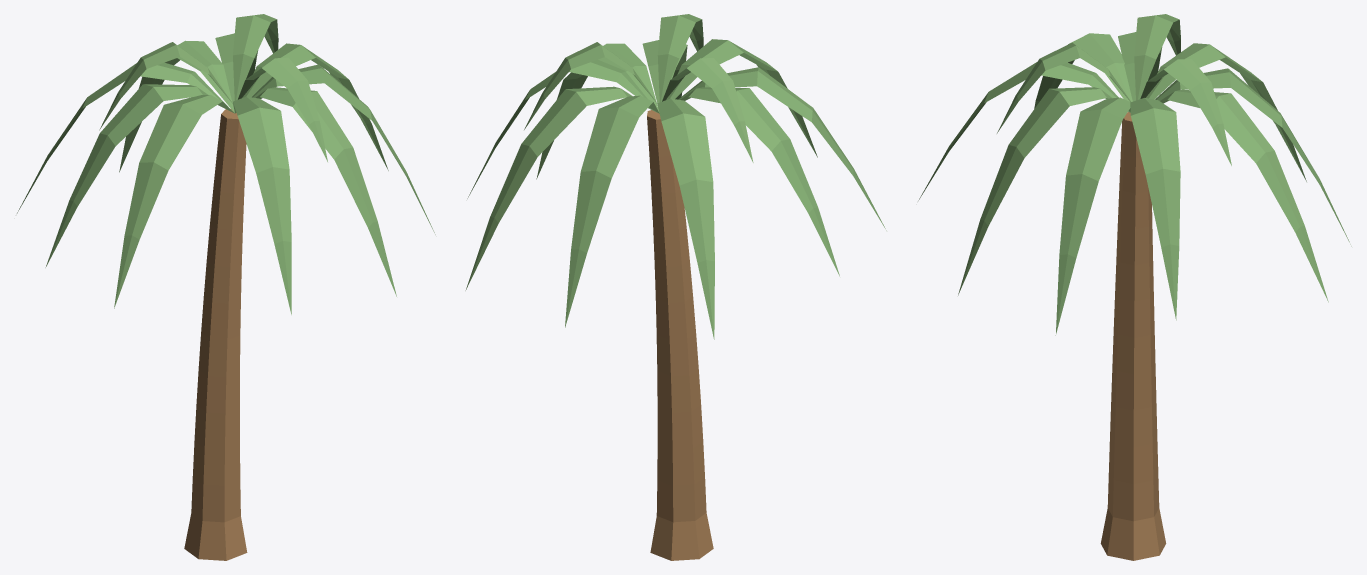
Rendered from tree-palm-tall.glb.
3 views of the same model, side by side, from view 1: azimuth 30°, elevation 25°; view 2: azimuth 150°, elevation 25°; view 3: azimuth 270°, elevation 25° (orthographic). The views are drawn at different scales.
Visible parts, largest first — view 1: tree-palm-tall; view 2: tree-palm-tall; view 3: tree-palm-tall.
Boxes of the visible parts, box(x1,y1,x2,y2) form: tree-palm-tall: box(17, 14, 435, 560); tree-palm-tall: box(465, 14, 886, 560); tree-palm-tall: box(918, 14, 1351, 560).
Size of the model in its own units: 2.93 by 3.93 by 3.01.
